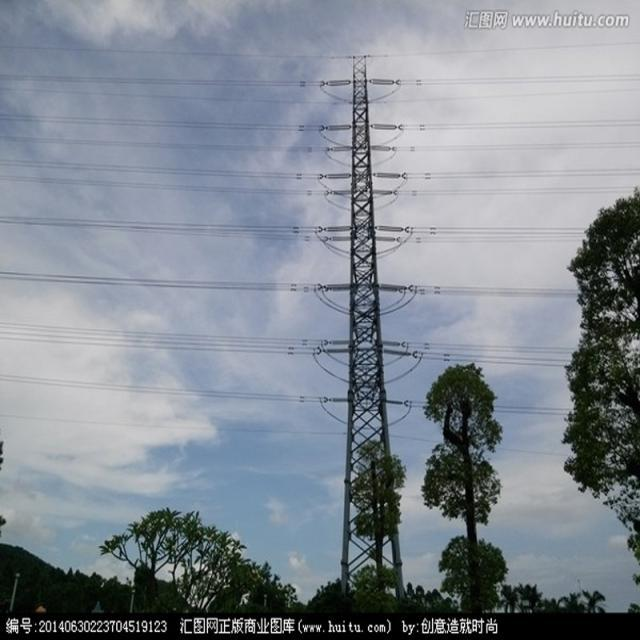non-critical vegetation: (300, 44, 430, 616)
